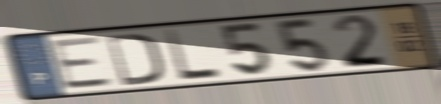2: (330, 13, 390, 70)
5: (269, 15, 333, 74), (217, 20, 275, 79)
D: (103, 30, 165, 88)
E: (48, 34, 118, 92)
L: (162, 28, 226, 84)
